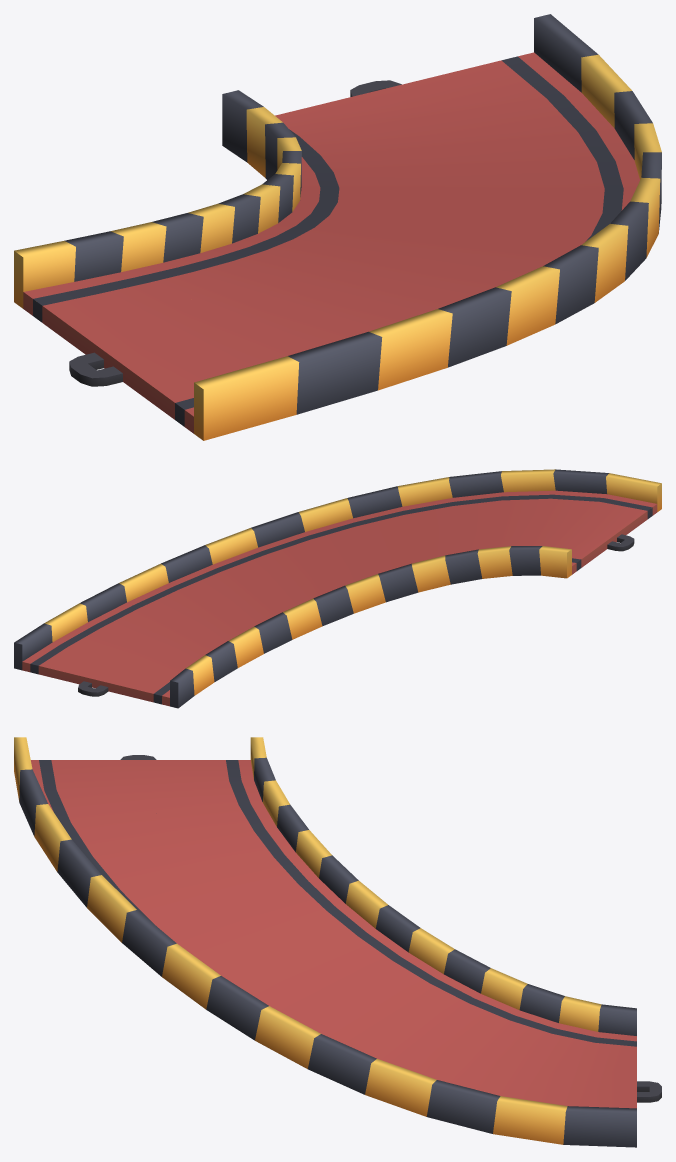
Rendered from track-road-wide-corner-large-ramp.fbx.
The picture shows the model from 3 angles, top to bottom: view 1: azimuth 30°, elevation 25°; view 2: azimuth 150°, elevation 25°; view 3: azimuth 270°, elevation 25°; orthographic projection. The views are drawn at different scales.
Visible parts, largest first — view 1: track-road-wide-corner-large-ramp; view 2: track-road-wide-corner-large-ramp; view 3: track-road-wide-corner-large-ramp.
Part boxes in pixels (x1,y1,x2,y2): track-road-wide-corner-large-ramp: [14, 14, 661, 440]; track-road-wide-corner-large-ramp: [14, 469, 661, 708]; track-road-wide-corner-large-ramp: [14, 737, 661, 1147].
Bounding box in the file's own units: 520 × 130 × 520.
